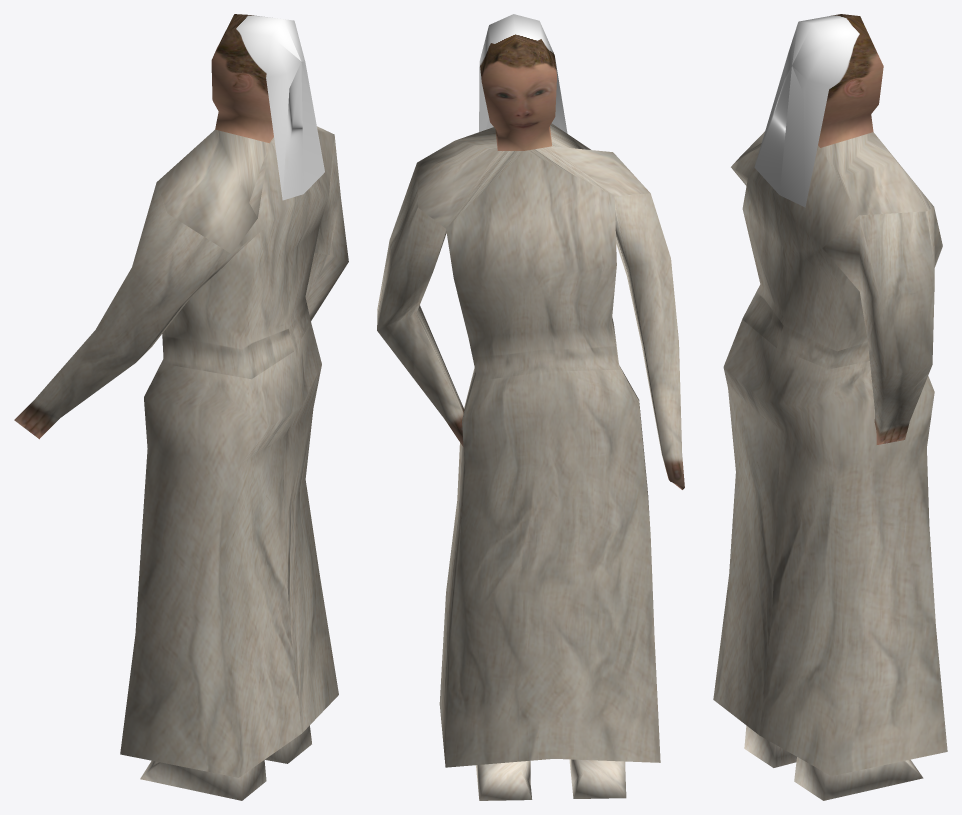
File: lady1_49.fbx
3 renders of one model, left to right at view 1: azimuth 30°, elevation 25°; view 2: azimuth 150°, elevation 25°; view 3: azimuth 270°, elevation 25°, orthographic. The views are drawn at different scales.
Parts seen in each view (by area): view 1: lady1_49; view 2: lady1_49; view 3: lady1_49.
Part boxes in pixels (left/top/right/bottom): lady1_49: left=14, top=14, right=348, bottom=800; lady1_49: left=377, top=14, right=684, bottom=800; lady1_49: left=713, top=14, right=947, bottom=800.
Bounding box in the file's own units: 16.14 × 35.63 × 9.9.
